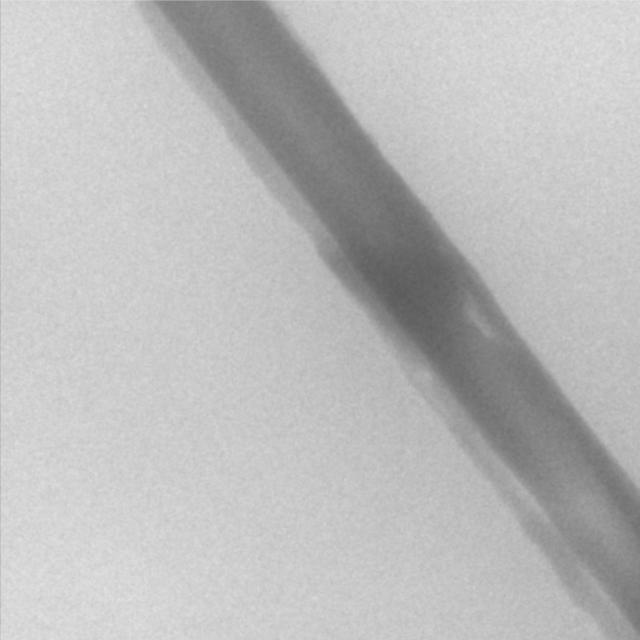unfused: (462, 298, 492, 337)
